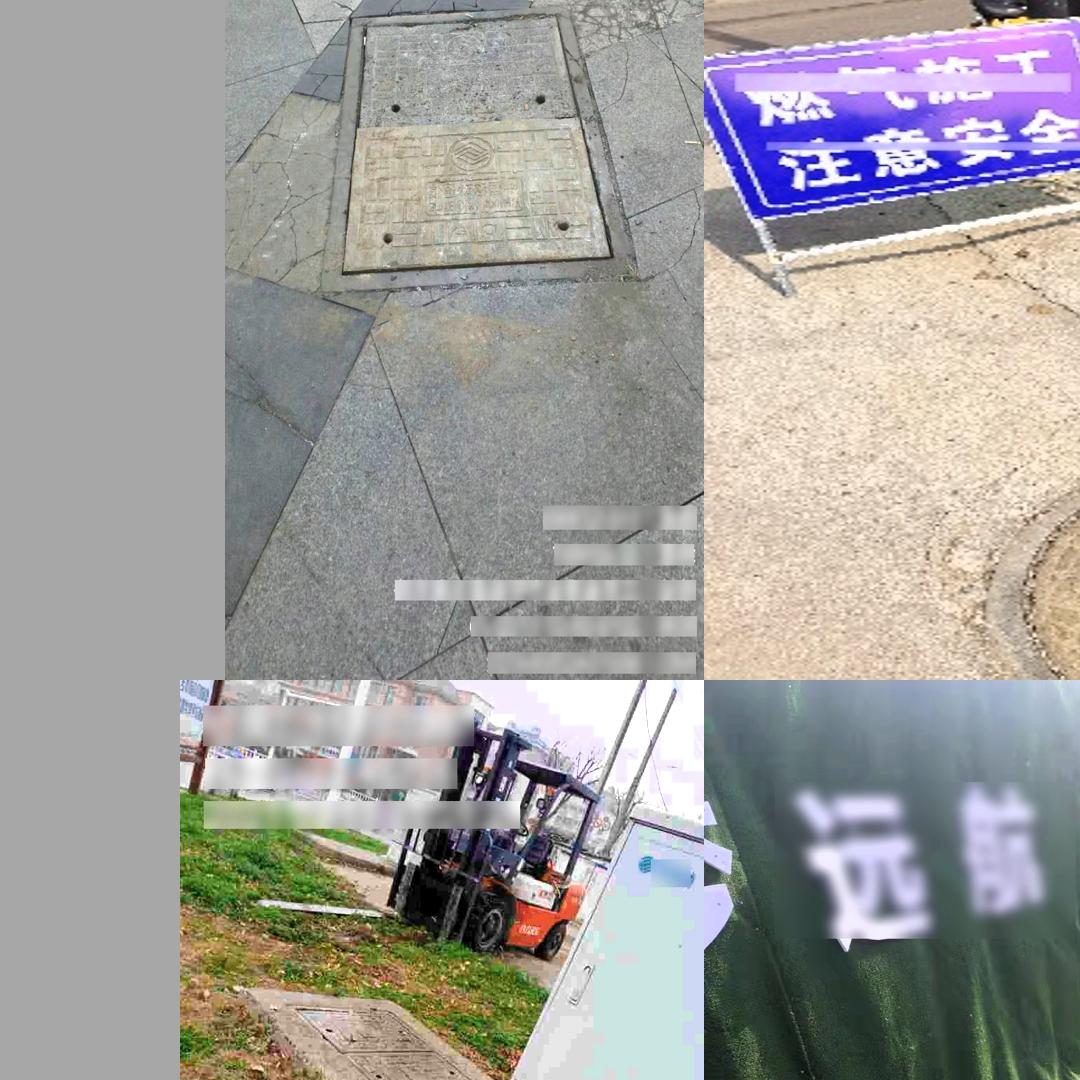good: (320, 5, 641, 289), (979, 449, 1080, 680), (291, 1004, 498, 1080)
